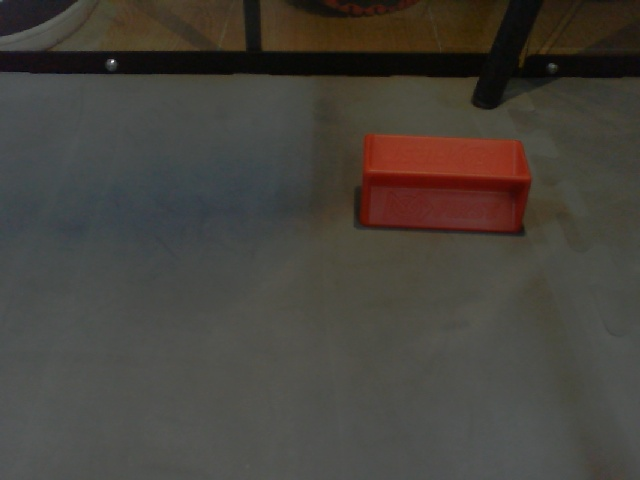RedSample: (353, 127, 537, 236)
